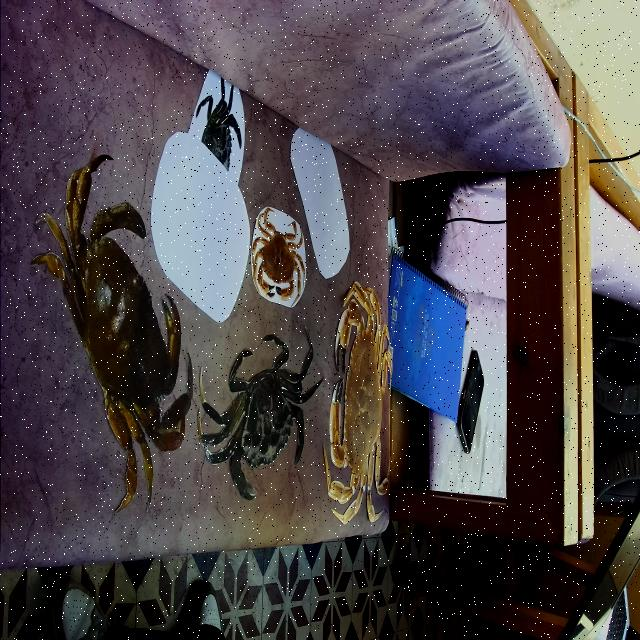European_Green_Crab: (188, 312, 338, 521), (176, 52, 256, 227)
